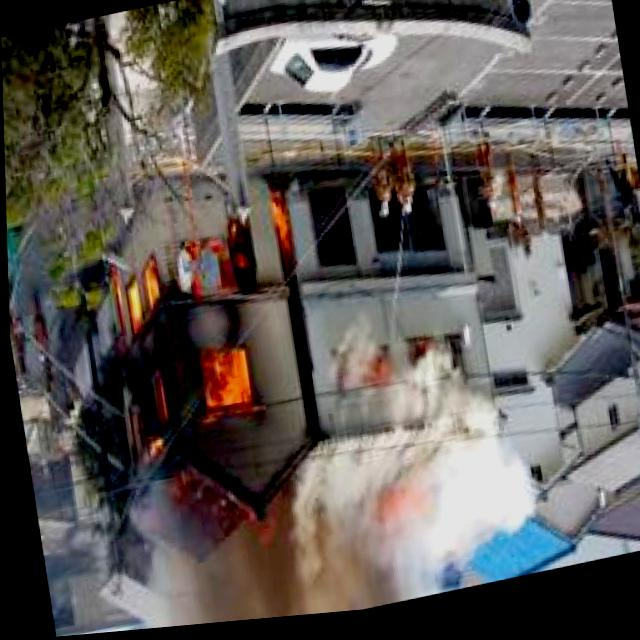Fire: (93, 179, 334, 462)
Smoke: (136, 410, 541, 631)
